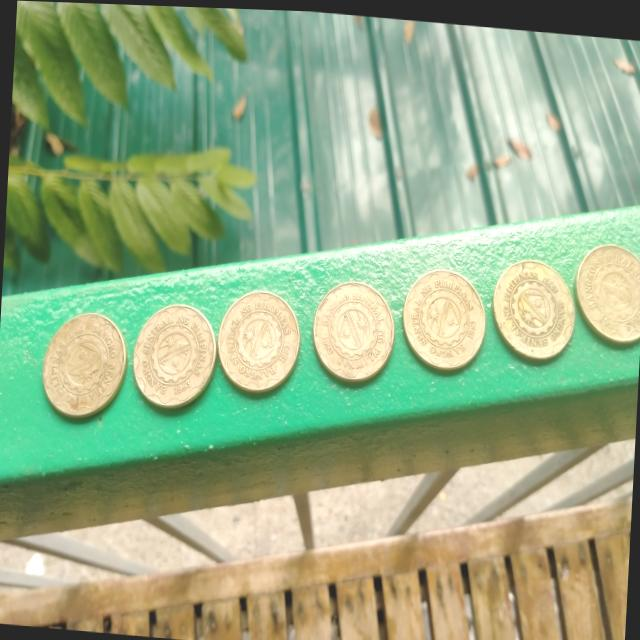5_Old_Back: (404, 264, 482, 362), (222, 295, 292, 387)
